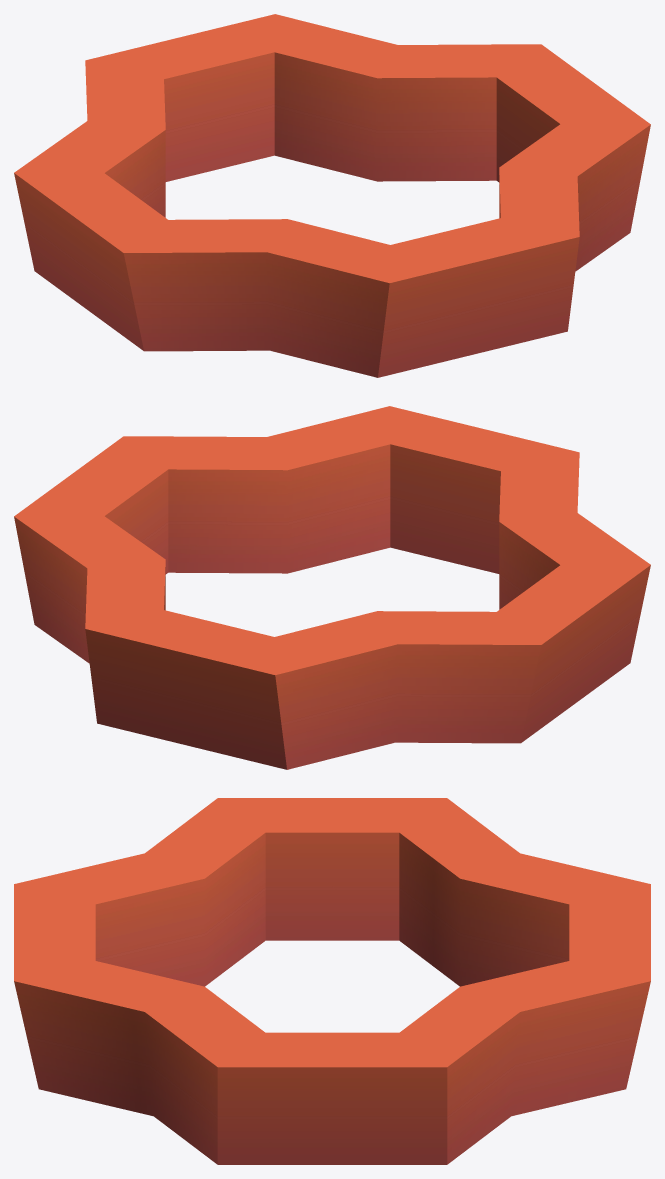
Rendered from paprika-slice.glb.
The picture shows the model from 3 angles, top to bottom: view 1: azimuth 30°, elevation 25°; view 2: azimuth 150°, elevation 25°; view 3: azimuth 270°, elevation 25°; orthographic projection. The views are drawn at different scales.
Visible parts, largest first — view 1: paprika-slice; view 2: paprika-slice; view 3: paprika-slice.
Part boxes in pixels (x1,y1,x2,y2): paprika-slice: [14, 14, 650, 377]; paprika-slice: [14, 406, 650, 769]; paprika-slice: [14, 798, 650, 1164].
Size of the model in its own units: 0.1602 by 0.03 by 0.1602.
Materials: 1 (1 with a texture image).
